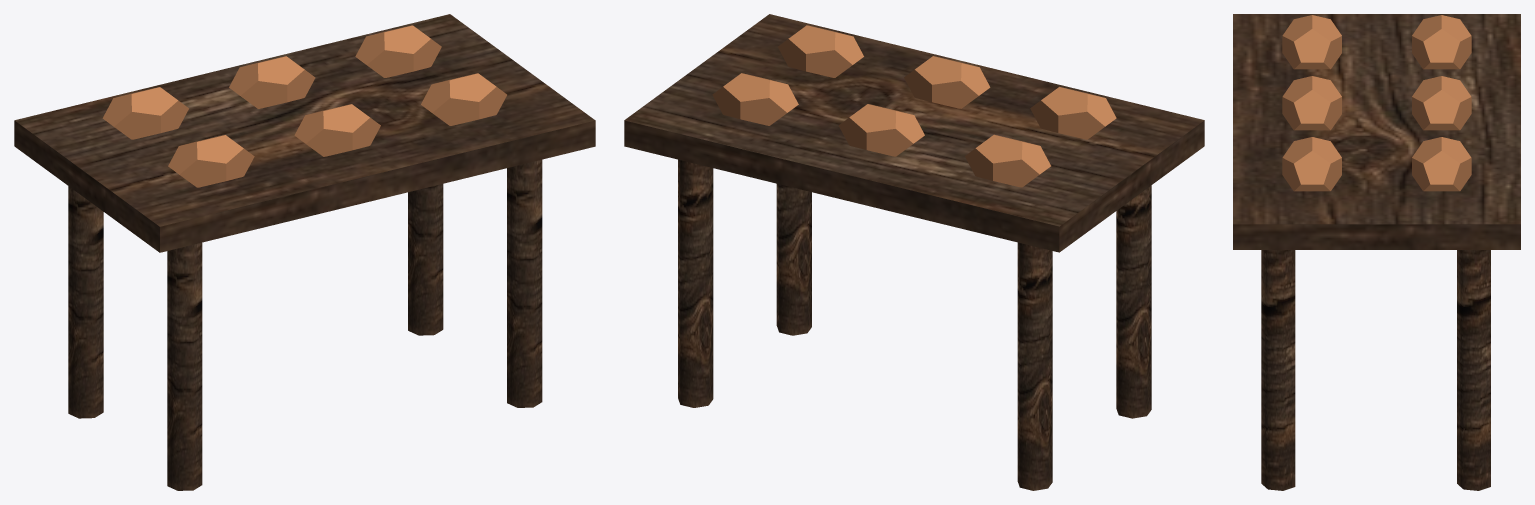
Rendered from breadBoard.glb.
3 views of the same model, side by side, from view 1: azimuth 30°, elevation 25°; view 2: azimuth 150°, elevation 25°; view 3: azimuth 270°, elevation 25° (orthographic).
Parts seen in each view (by area): view 1: part_0, part_1; view 2: part_0, part_1; view 3: part_0, part_1.
Boxes of the visible parts, x1,y1,x2,y2 form: part_0: [14, 14, 595, 490]; part_1: [102, 25, 506, 187]; part_0: [624, 14, 1204, 490]; part_1: [712, 25, 1116, 187]; part_0: [1233, 14, 1520, 490]; part_1: [1282, 15, 1471, 191].
Size of the model in its own units: 1.14 by 0.804 by 0.6575.
Materials: 2 (1 with a texture image).
